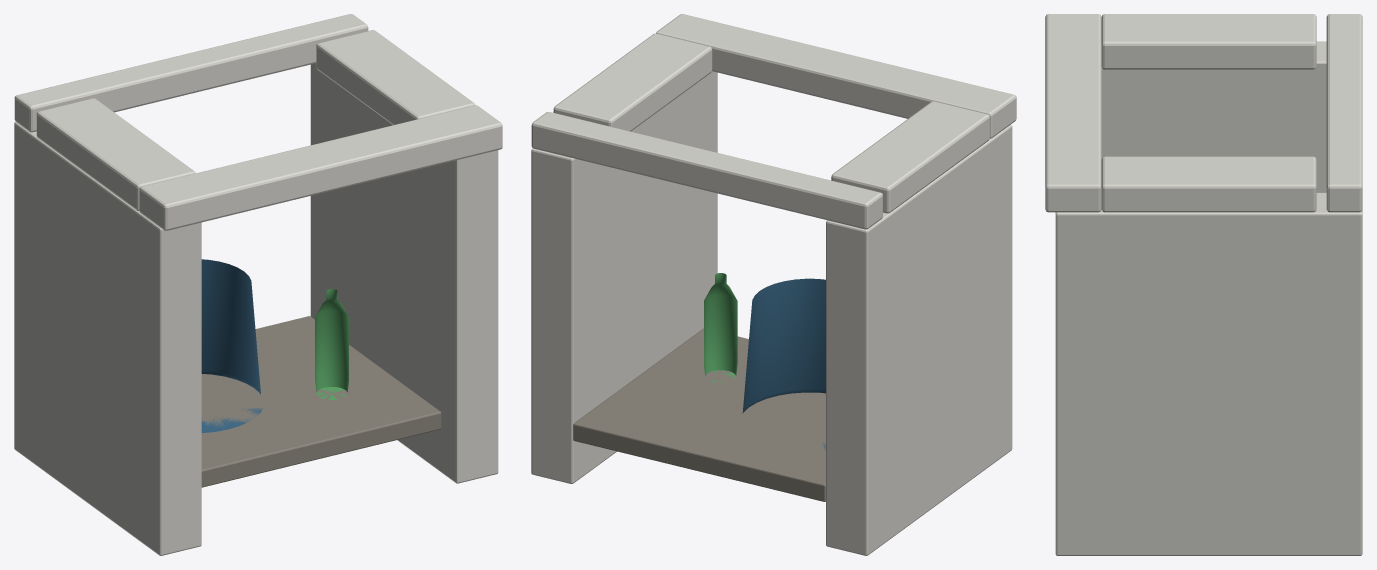
The model's file is BeRua.glb.
3 renders of one model, left to right at view 1: azimuth 30°, elevation 25°; view 2: azimuth 150°, elevation 25°; view 3: azimuth 270°, elevation 25°, orthographic. The views are drawn at different scales.
Visible parts, largest first — view 1: geometry_0; view 2: geometry_0; view 3: geometry_0.
Part boxes in pixels (x1,y1,x2,y2): geometry_0: (14, 14, 502, 555); geometry_0: (531, 14, 1016, 555); geometry_0: (1045, 14, 1362, 555).
Size of the model in its own units: 0.8 by 0.8 by 0.62.
